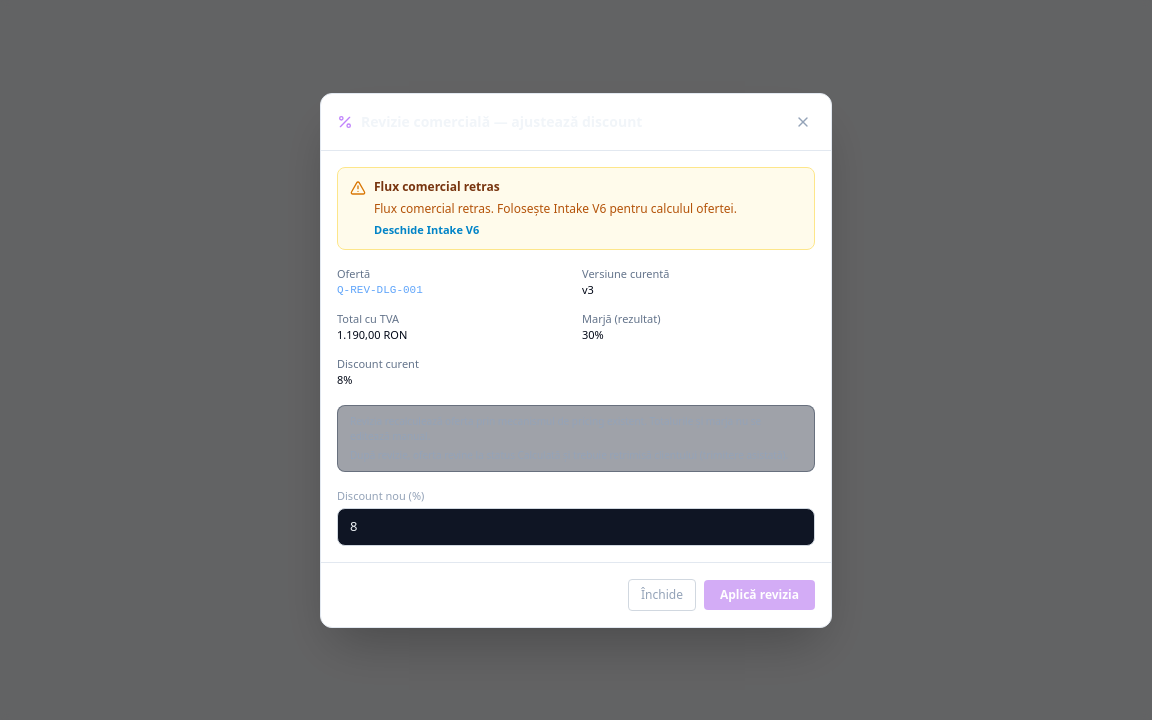
Test case: QuoteRevisionDialog › blocks invalid discount in UI
The width and height of the screenshot is (1152, 720).
Replace the text in the number field with test id "quote-revision-discount-input" with "75" at (576, 527), box [337, 508, 815, 546]
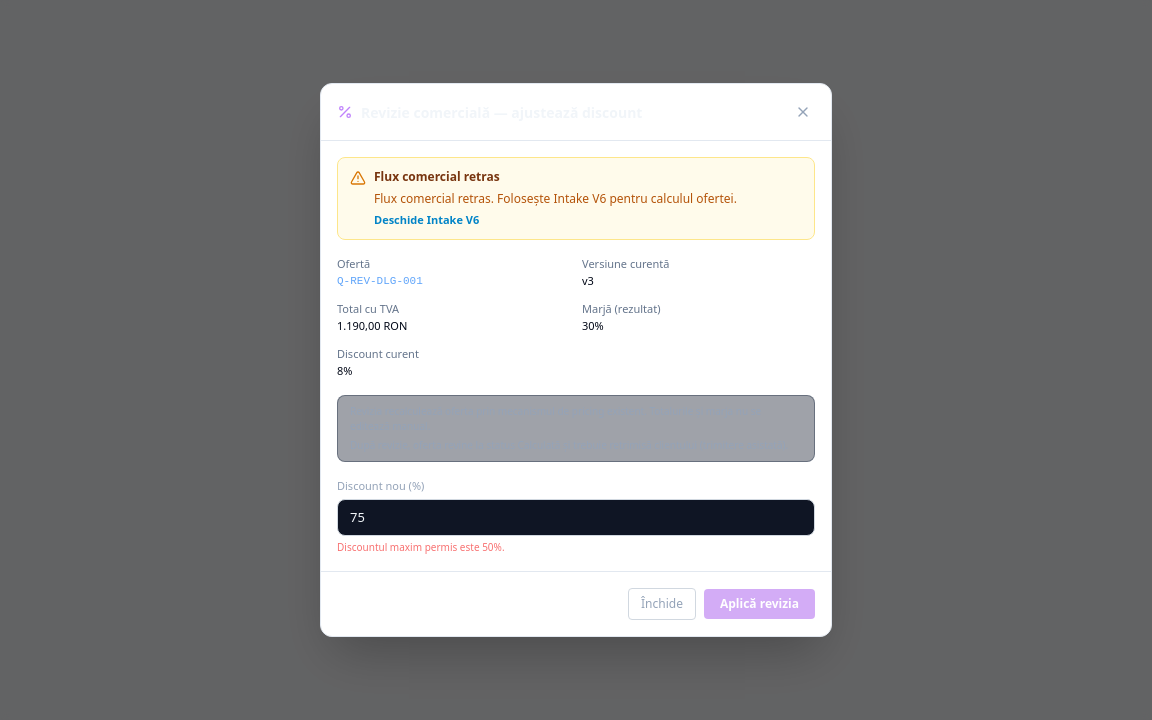
Expected: the button with test id "quote-revision-submit" is disabled, [704, 589, 815, 619]
Expected: the text "Discountul maxim permis este 50%." is shown, [337, 540, 505, 554]
